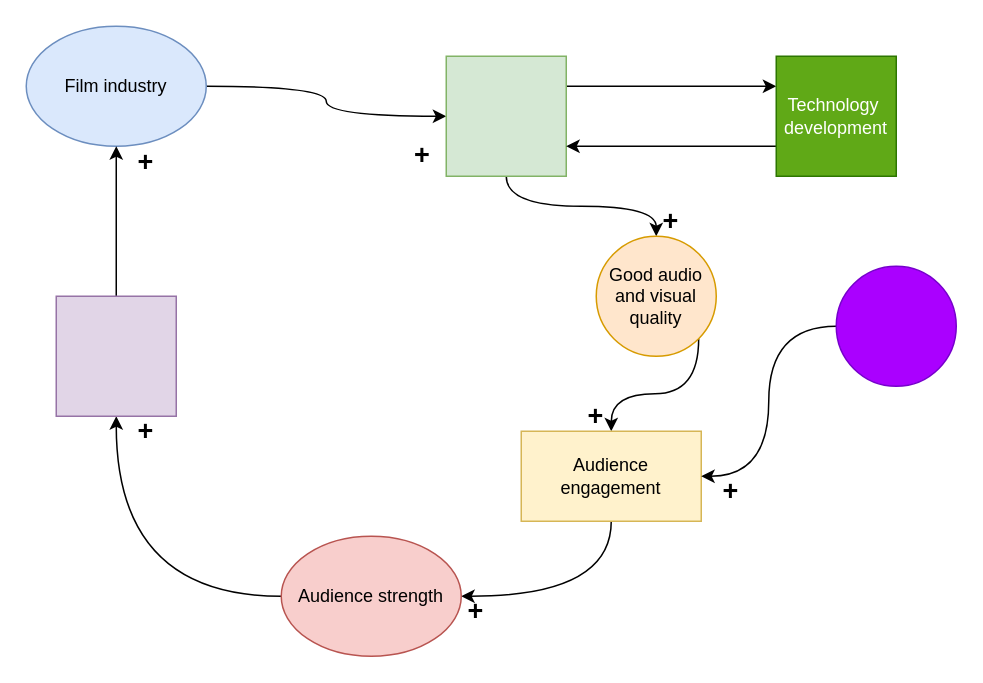
Some shapes in this 983 by 683 pixel diagram are drawn without their labels. Each missing label, with the centre of its shape:
"Benefit for film industries" belongs at point (115, 355).
"Content of movies" belongs at point (895, 325).
"Good Processing and Recording require" belongs at point (505, 115).
